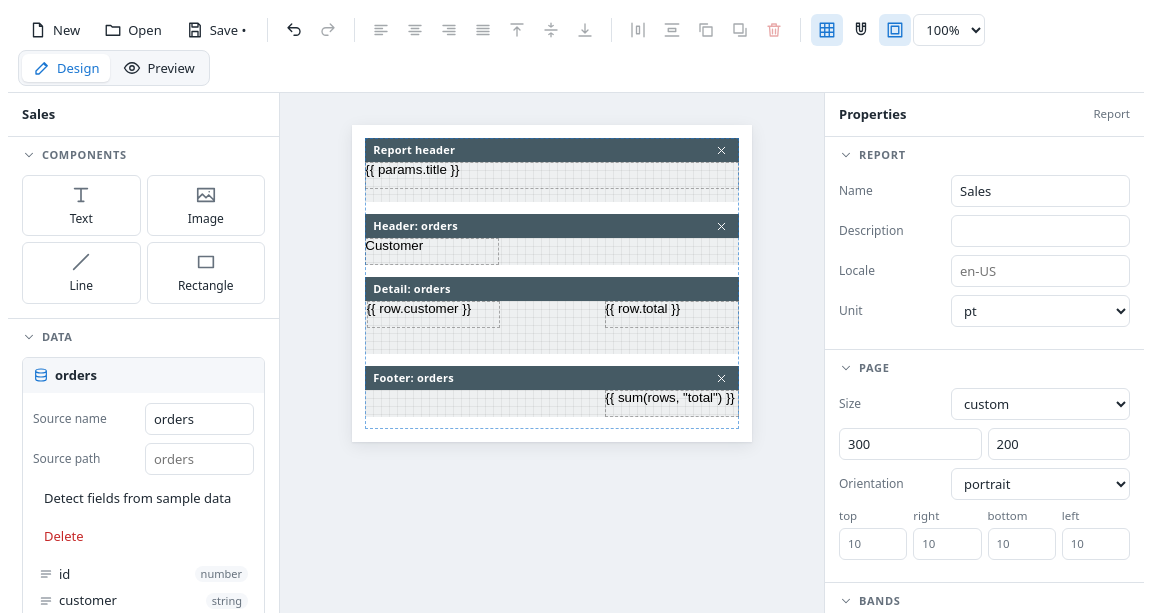
Test: ReportDesigner: toolbar › asks before discarding unsaved changes on New
The width and height of the screenshot is (1152, 613).
Step 1. Click the button "New" → point(55, 30), box [18,14,91,46]
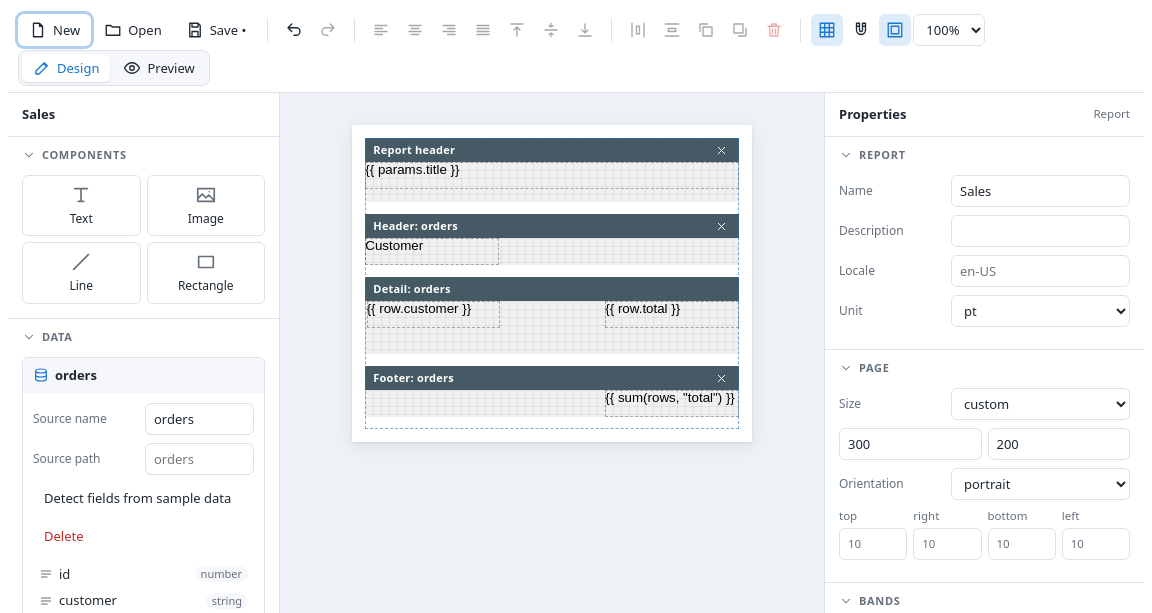
Expected: the text "Sales" is shown, [8,93,279,137]
Step 2. Click the button "New" → point(55, 30), box [18,14,91,46]
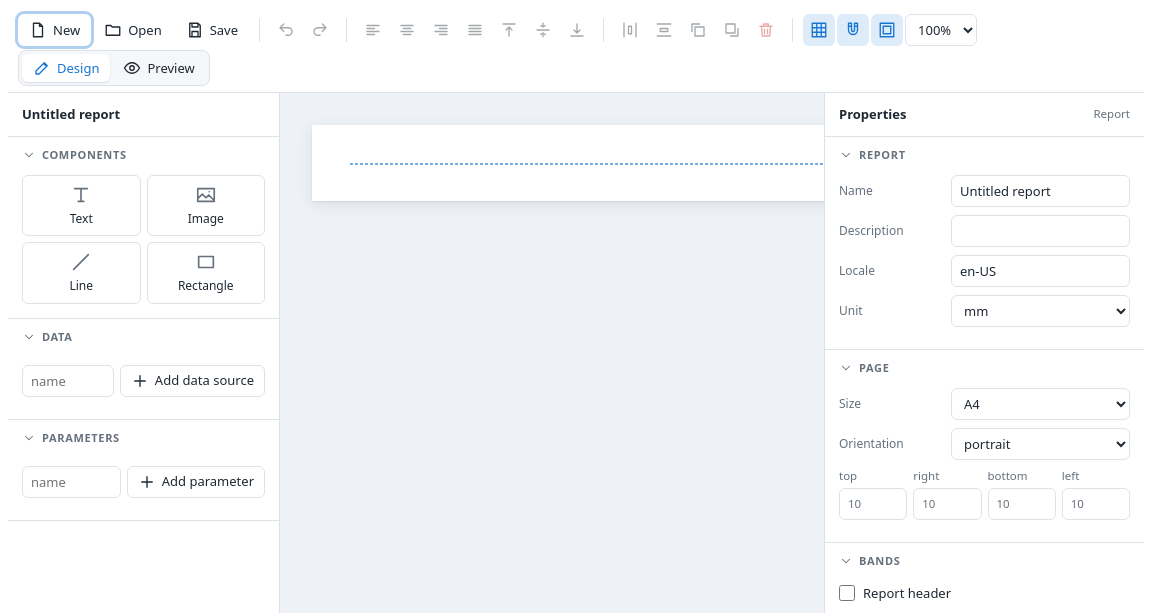
Expected: the text "Untitled report" is shown, [8,93,279,137]
